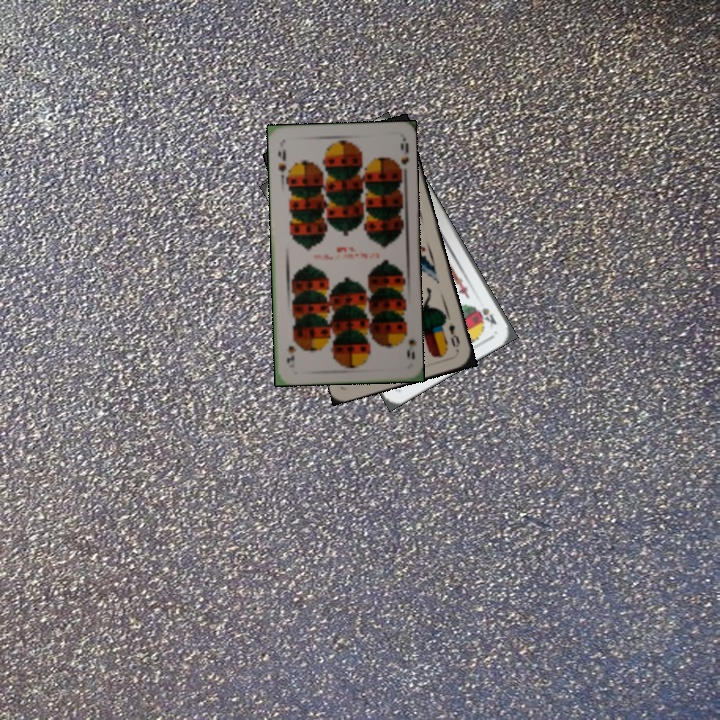EO: (440, 314, 462, 354)
S9: (398, 325, 418, 362), (274, 144, 288, 175)
SK: (474, 304, 499, 329)
